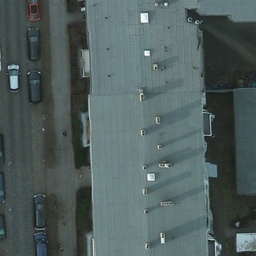car: (31, 196, 47, 228), (26, 27, 40, 61), (28, 70, 42, 101), (7, 64, 20, 91), (25, 0, 40, 23), (0, 213, 7, 240), (0, 173, 6, 203), (0, 132, 4, 165), (0, 37, 1, 73)
